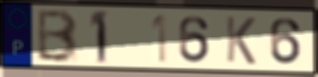1: (88, 9, 110, 65), (151, 14, 168, 63)
6: (177, 15, 213, 64), (269, 17, 304, 66)
B: (35, 8, 80, 65)
K: (224, 15, 258, 67)
